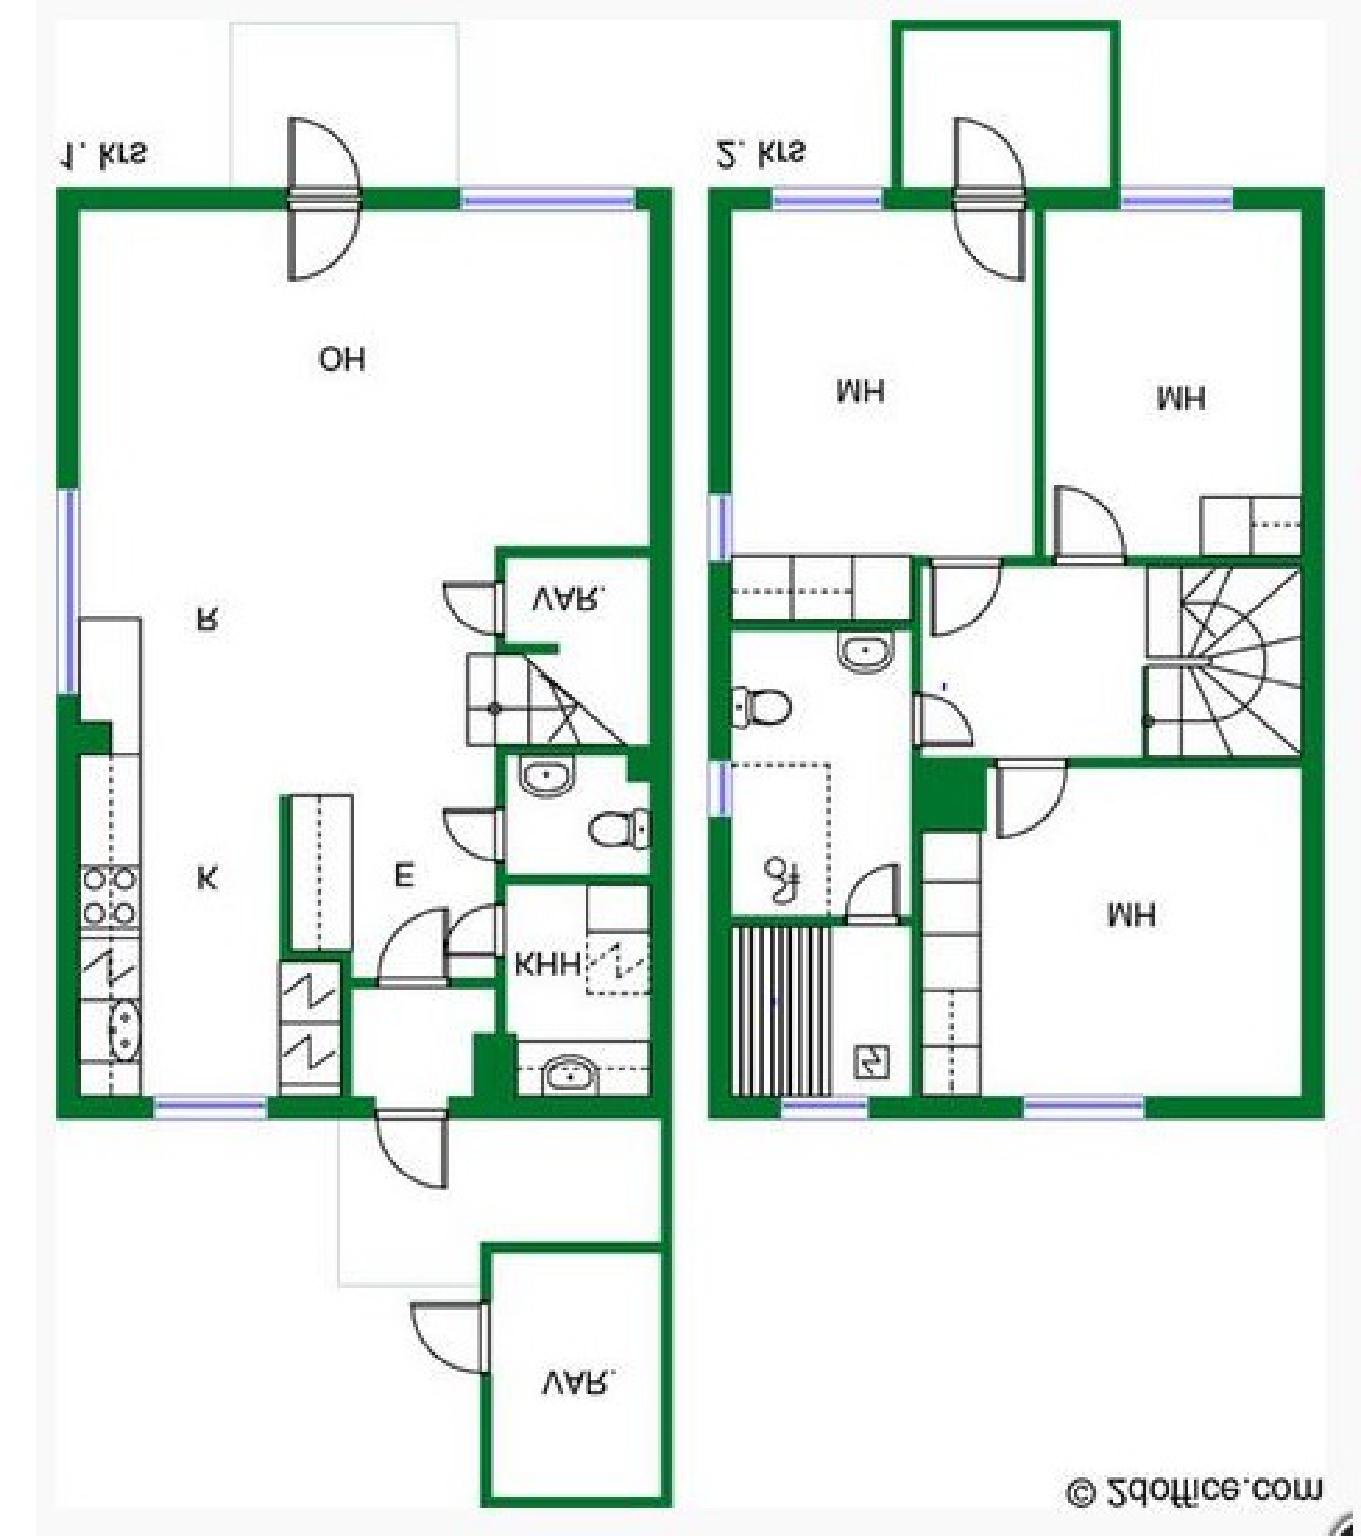door: (284, 113, 369, 286), (943, 118, 1029, 290), (370, 1088, 469, 1194), (394, 1293, 497, 1384), (925, 547, 1002, 635), (992, 752, 1079, 829), (427, 887, 502, 974), (1051, 487, 1125, 565), (381, 905, 445, 993), (435, 795, 501, 867), (437, 579, 507, 646), (909, 689, 984, 741), (845, 855, 903, 916)
window: (453, 177, 633, 215), (56, 487, 81, 687), (1121, 185, 1234, 215), (152, 1093, 265, 1123), (1025, 1093, 1146, 1118), (771, 185, 884, 208), (699, 493, 733, 562), (779, 1101, 876, 1123), (705, 756, 730, 816)
zone: (81, 202, 653, 1100), (933, 756, 1299, 1098), (737, 206, 1027, 552), (1046, 202, 1299, 549), (914, 560, 1305, 757), (728, 620, 904, 916), (494, 1252, 658, 1495), (905, 33, 1114, 194), (499, 882, 650, 1098), (730, 922, 912, 1097), (504, 551, 653, 742), (504, 752, 661, 875), (360, 987, 494, 1100)
